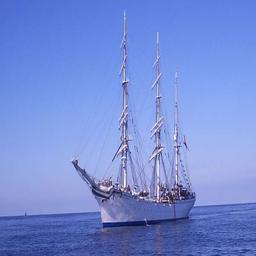Ship: (68, 8, 200, 228)
